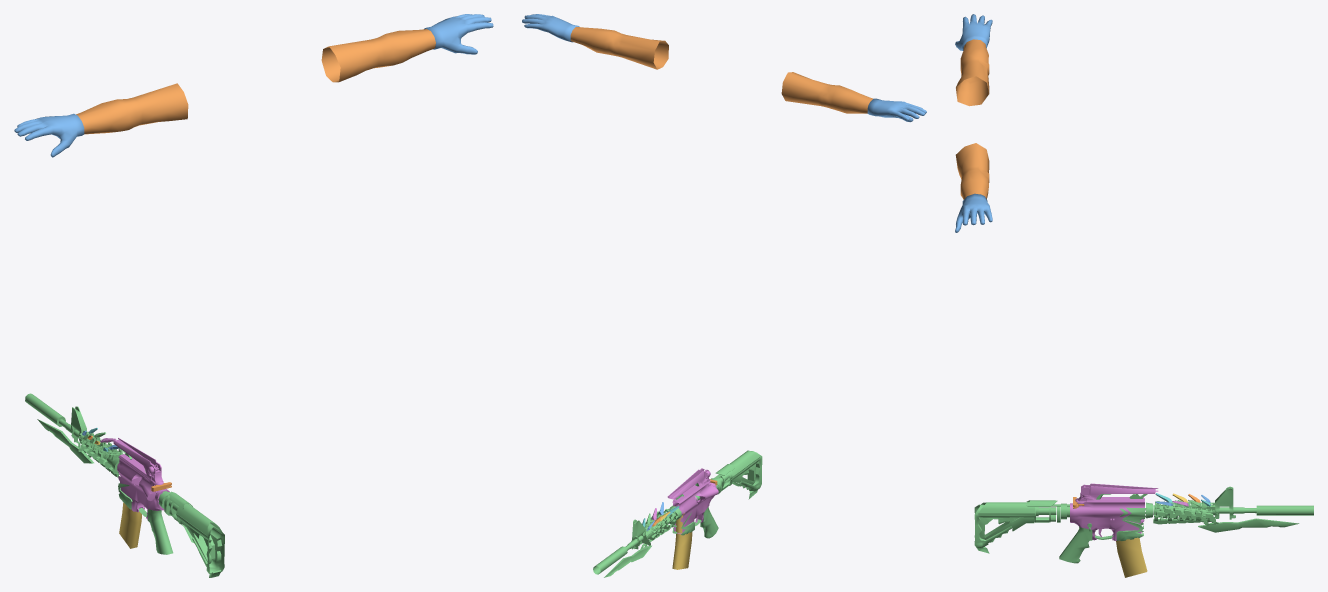
File: PV-M4A1_Silencer_Predator_Classic.obj
The picture shows the model from 3 angles, left to right: view 1: azimuth 30°, elevation 25°; view 2: azimuth 150°, elevation 25°; view 3: azimuth 270°, elevation 25°; orthographic projection. The views are drawn at different scales.
Parts seen in each view (by area): view 1: PV-M4A1_Silencer_Predator_Classic_Fview-arm2, PV-M4A1_Silencer_Predator_Classic_middle01, PV-M4A1_Silencer_Predator_Classic_Fview-hand2, PV-M4A1_Silencer_Predator_Classic_Object336, PV-M4A1_Silencer_Predator_Classic_frontside01, PV-M4A1_Silencer_Predator_Classic_Object344; view 2: PV-M4A1_Silencer_Predator_Classic_Fview-arm2, PV-M4A1_Silencer_Predator_Classic_middle01, PV-M4A1_Silencer_Predator_Classic_Fview-hand2, PV-M4A1_Silencer_Predator_Classic_Object336, PV-M4A1_Silencer_Predator_Classic_frontside01, PV-M4A1_Silencer_Predator_Classic_Object344; view 3: PV-M4A1_Silencer_Predator_Classic_middle01, PV-M4A1_Silencer_Predator_Classic_Fview-arm2, PV-M4A1_Silencer_Predator_Classic_Object336, PV-M4A1_Silencer_Predator_Classic_frontside01, PV-M4A1_Silencer_Predator_Classic_Fview-hand2, PV-M4A1_Silencer_Predator_Classic_Object344.
Boxes of the visible parts, left/top/right/bottom form: PV-M4A1_Silencer_Predator_Classic_Fview-arm2: left=76, top=29, right=435, bottom=134; PV-M4A1_Silencer_Predator_Classic_middle01: left=78, top=430, right=224, bottom=577; PV-M4A1_Silencer_Predator_Classic_Fview-hand2: left=14, top=14, right=493, bottom=157; PV-M4A1_Silencer_Predator_Classic_Object336: left=112, top=438, right=169, bottom=519; PV-M4A1_Silencer_Predator_Classic_frontside01: left=25, top=393, right=123, bottom=463; PV-M4A1_Silencer_Predator_Classic_Object344: left=119, top=502, right=141, bottom=548; PV-M4A1_Silencer_Predator_Classic_Fview-arm2: left=570, top=27, right=872, bottom=113; PV-M4A1_Silencer_Predator_Classic_middle01: left=642, top=450, right=762, bottom=546; PV-M4A1_Silencer_Predator_Classic_Fview-hand2: left=522, top=14, right=926, bottom=122; PV-M4A1_Silencer_Predator_Classic_Object336: left=667, top=468, right=718, bottom=534; PV-M4A1_Silencer_Predator_Classic_frontside01: left=593, top=511, right=679, bottom=577; PV-M4A1_Silencer_Predator_Classic_Object344: left=672, top=513, right=692, bottom=569; PV-M4A1_Silencer_Predator_Classic_middle01: left=974, top=494, right=1218, bottom=563; PV-M4A1_Silencer_Predator_Classic_Fview-arm2: left=955, top=39, right=989, bottom=199; PV-M4A1_Silencer_Predator_Classic_Object336: left=1070, top=483, right=1158, bottom=540; PV-M4A1_Silencer_Predator_Classic_frontside01: left=1156, top=486, right=1313, bottom=532; PV-M4A1_Silencer_Predator_Classic_Fview-hand2: left=955, top=14, right=992, bottom=232; PV-M4A1_Silencer_Predator_Classic_Object344: left=1116, top=537, right=1147, bottom=577.
Size of the model in its own units: 4.17 by 4.5 by 3.03.
